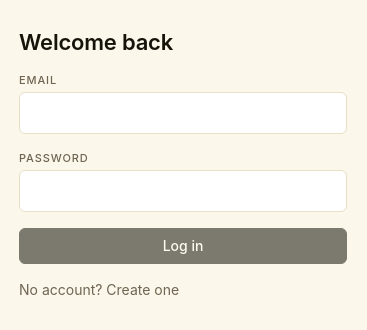
Scenario: AuthForm › surfaces an error on failure
Type "me@example.com" into the field labelled "Email" at (183, 113), box x1=19 y1=92 x2=347 y2=134
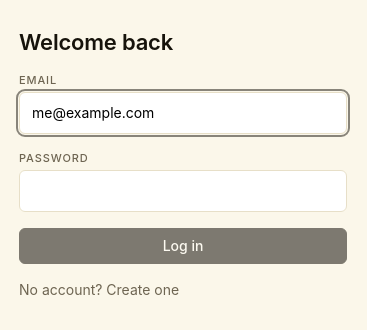
Type "hunter2hunter" into the password field labelled "Password" at (183, 191), box x1=19 y1=170 x2=347 y2=212
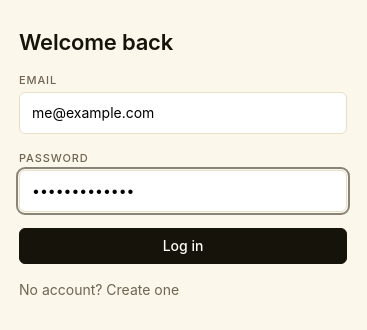
Click the button "Log in" at (183, 246), box x1=19 y1=228 x2=347 y2=264
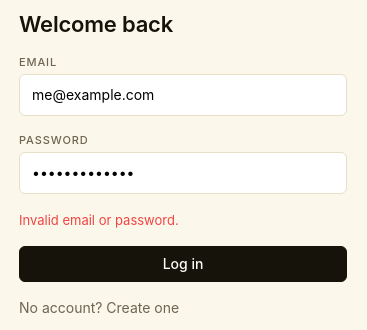
Result: the message "Invalid email or password." is shown at x1=19 y1=212 x2=179 y2=228
